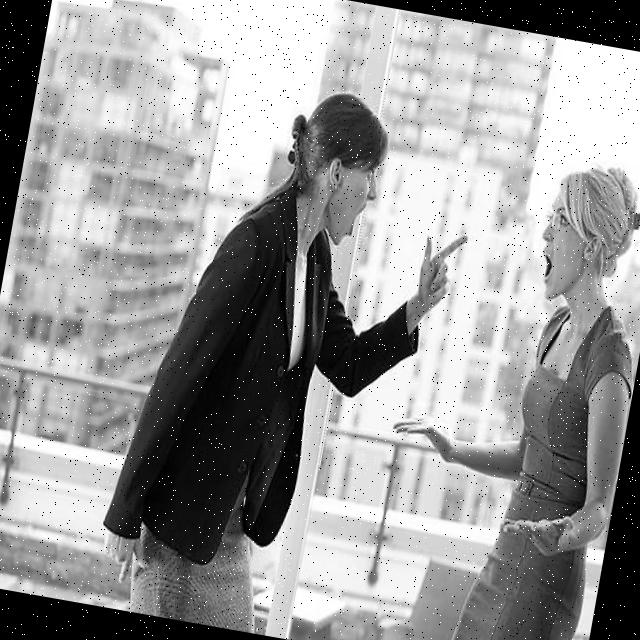Angry: (530, 182, 596, 306), (321, 142, 385, 251)
